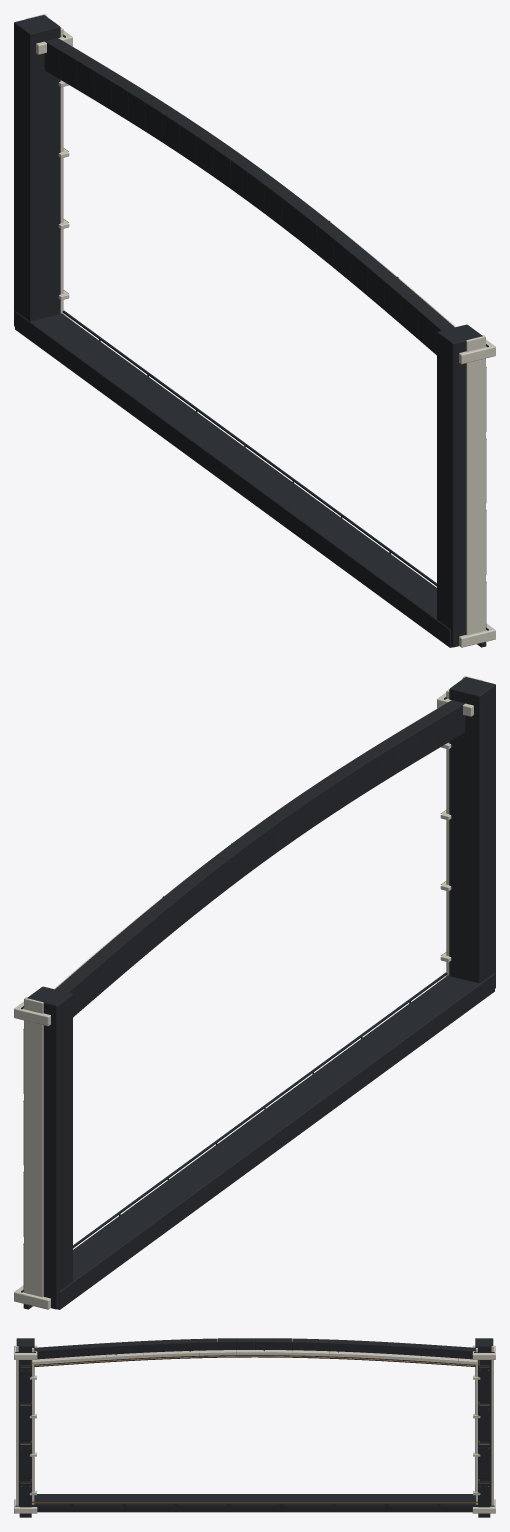
File: SM_Aurelion_KIT_Z11ObservationWindowSurround.fbx
3 views of the same model, one above another, from view 1: azimuth 30°, elevation 25°; view 2: azimuth 150°, elevation 25°; view 3: azimuth 270°, elevation 25° (orthographic). The views are drawn at different scales.
Parts seen in each view (by area): view 1: SM_Aurelion_KIT_Z11ObservationWindowSurround; view 2: SM_Aurelion_KIT_Z11ObservationWindowSurround; view 3: SM_Aurelion_KIT_Z11ObservationWindowSurround.
Part boxes in pixels (bbox=[...]): SM_Aurelion_KIT_Z11ObservationWindowSurround: bbox=[14, 14, 495, 647]; SM_Aurelion_KIT_Z11ObservationWindowSurround: bbox=[14, 676, 495, 1309]; SM_Aurelion_KIT_Z11ObservationWindowSurround: bbox=[14, 1338, 495, 1517].
Bounding box in the file's own units: 85.5 × 1566 × 624.
